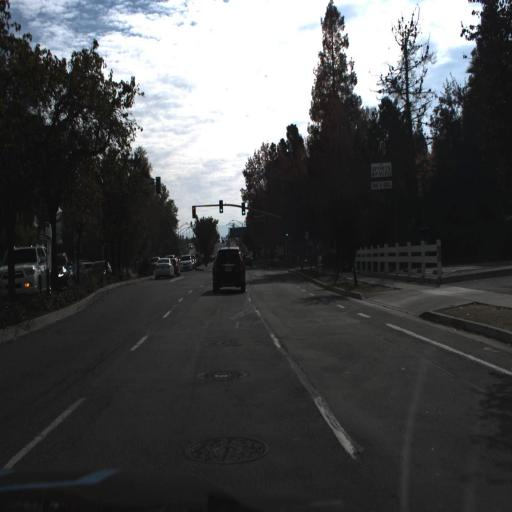car: (0, 242, 52, 302), (0, 242, 54, 294), (207, 241, 248, 297), (38, 244, 77, 288), (22, 266, 61, 294), (49, 250, 72, 294), (153, 254, 178, 285), (152, 254, 174, 284), (88, 259, 110, 283), (178, 254, 194, 275)
trafficLight-Green: (240, 200, 246, 215), (284, 222, 289, 239), (219, 198, 224, 212)
trafficLight-RedLeft: (192, 206, 196, 221)
